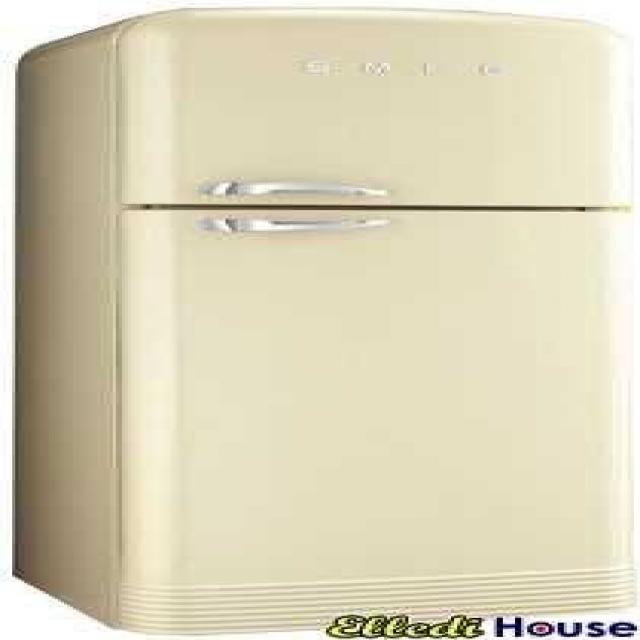refrigerator: (108, 7, 640, 628)
